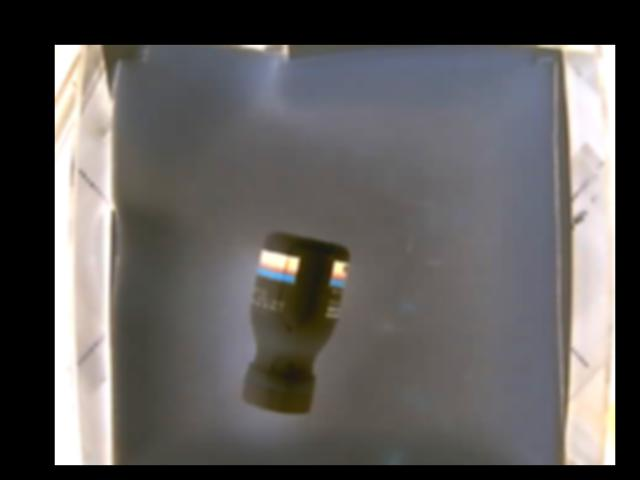Bottle: (246, 232, 349, 416)
